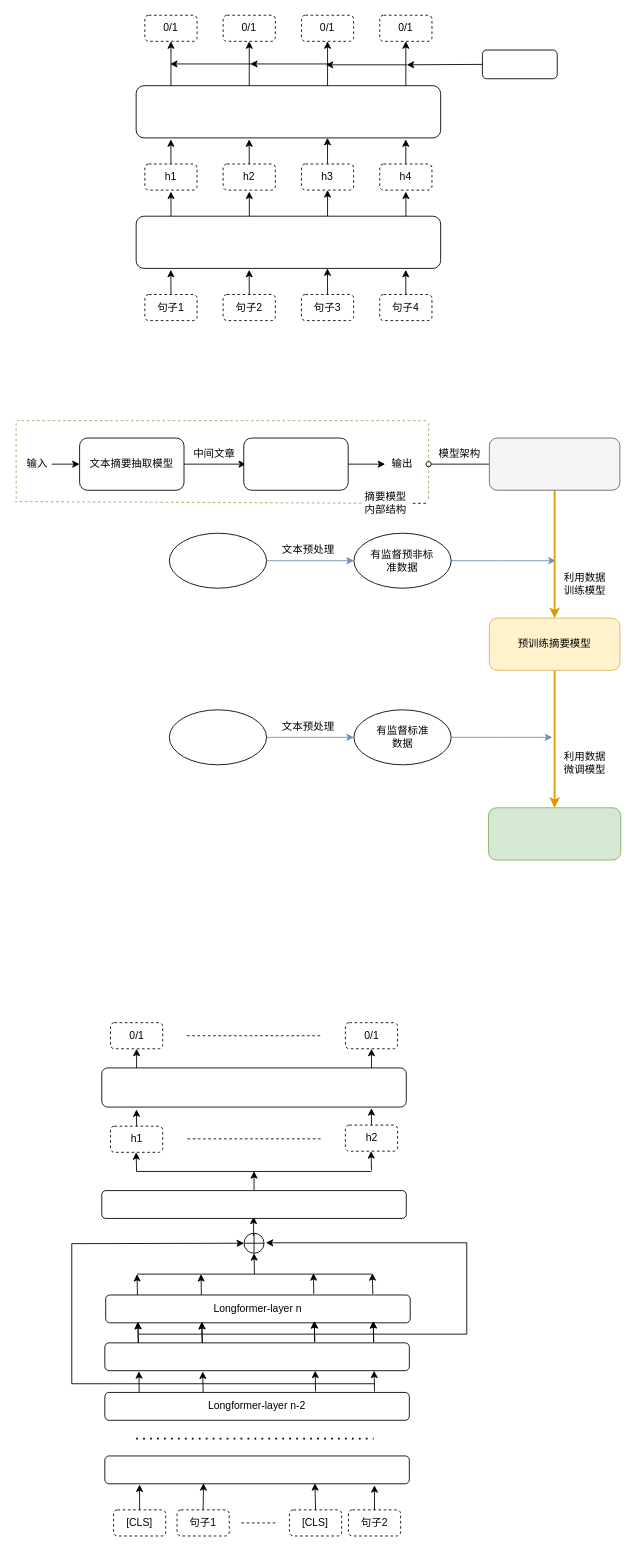
This 636x1551 diagram has some shape labels left out. Each missing label, with the centre of its shape:
Average Pooling: the point at 253,1204
BERT/ELECTRA模型: the point at 288,241
CNN、RNN或transformer架构网络: the point at 288,111
Inter-sentence Transformer layer: the point at 253,1087
Longformer-layer 0: the point at 256,1469
Longformer-layer n-1: the point at 256,1356
原始大量非标准数据: the point at 217,560
原始少量标准数据: the point at 217,737
摘要模型: the point at 554,463
文本摘要抽象 生成模型: the point at 295,463
最终两阶段文本摘要模型: the point at 554,833
适当规则: the point at 519,64
